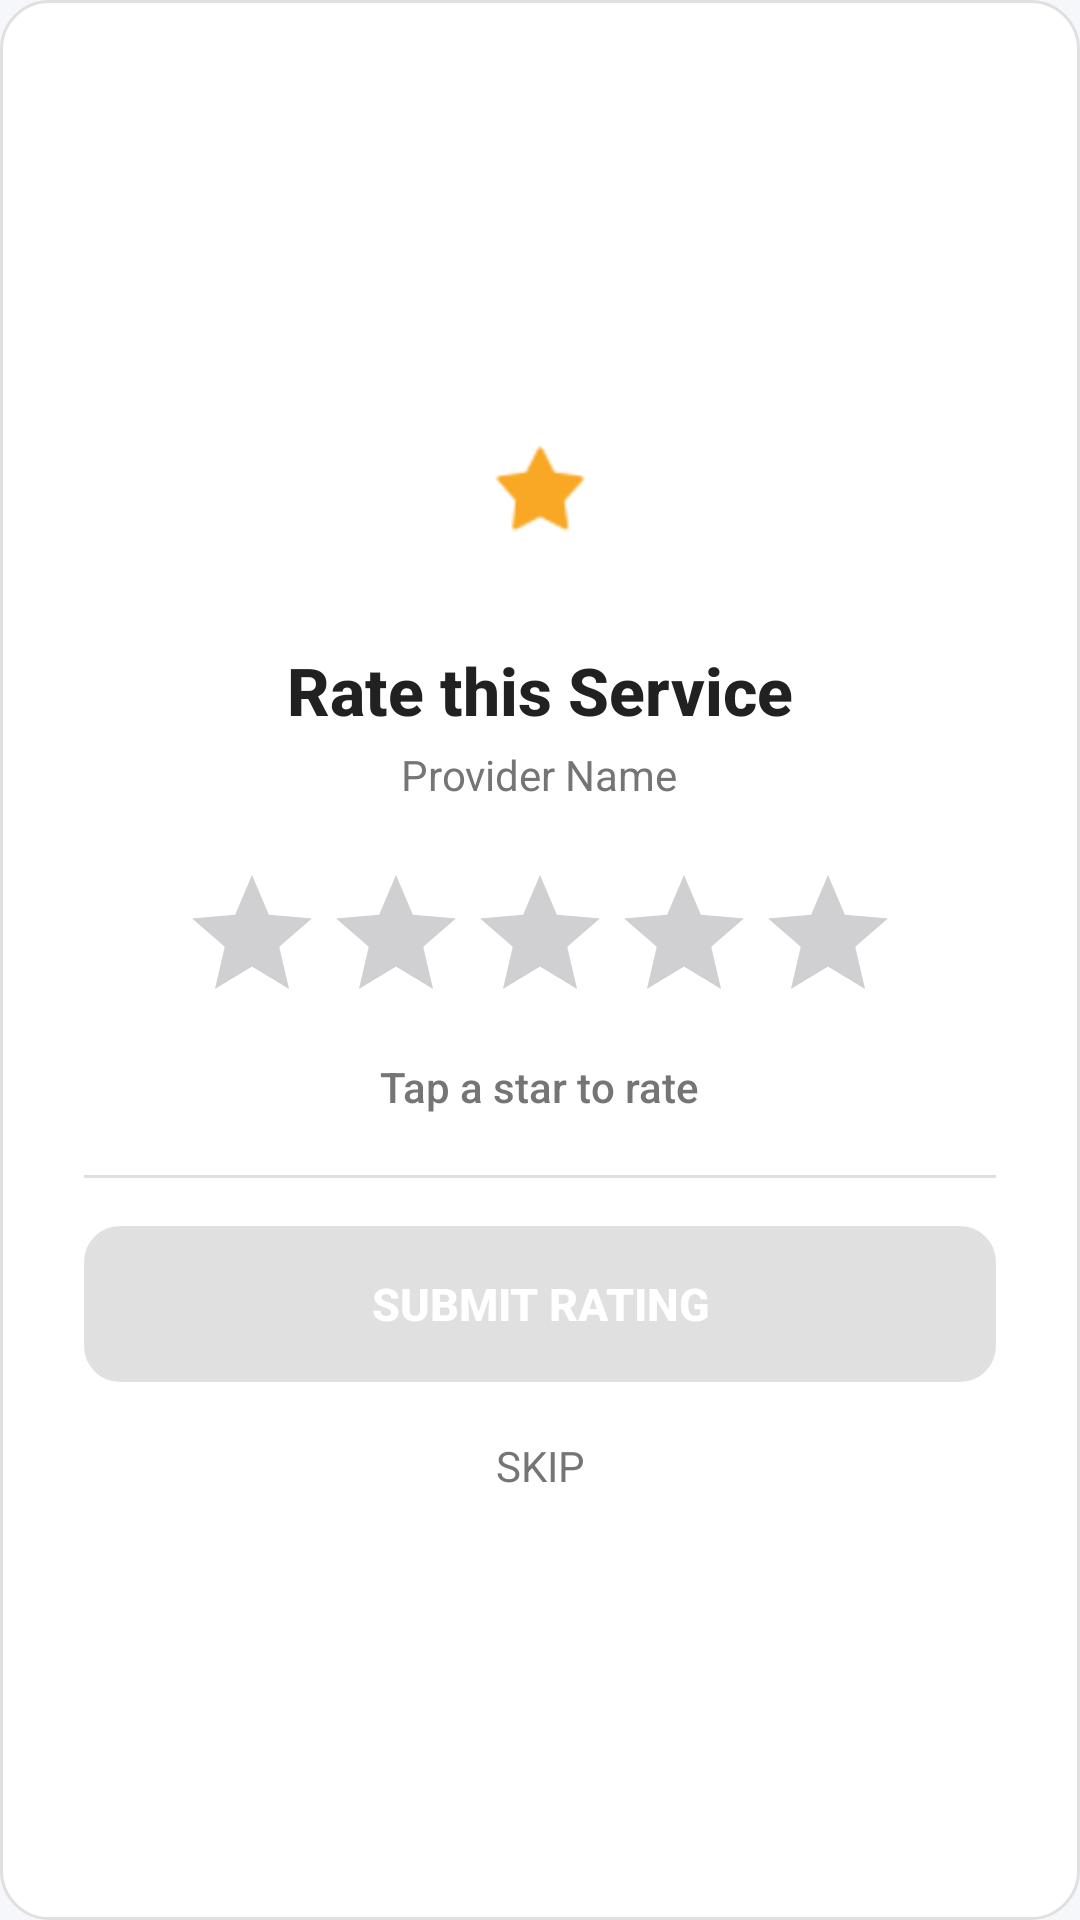

Screen size 1080w x 1920h. Icon name, then its box in pixels as (x1, y1, x2, y2):
star on: (496, 446, 585, 531)
